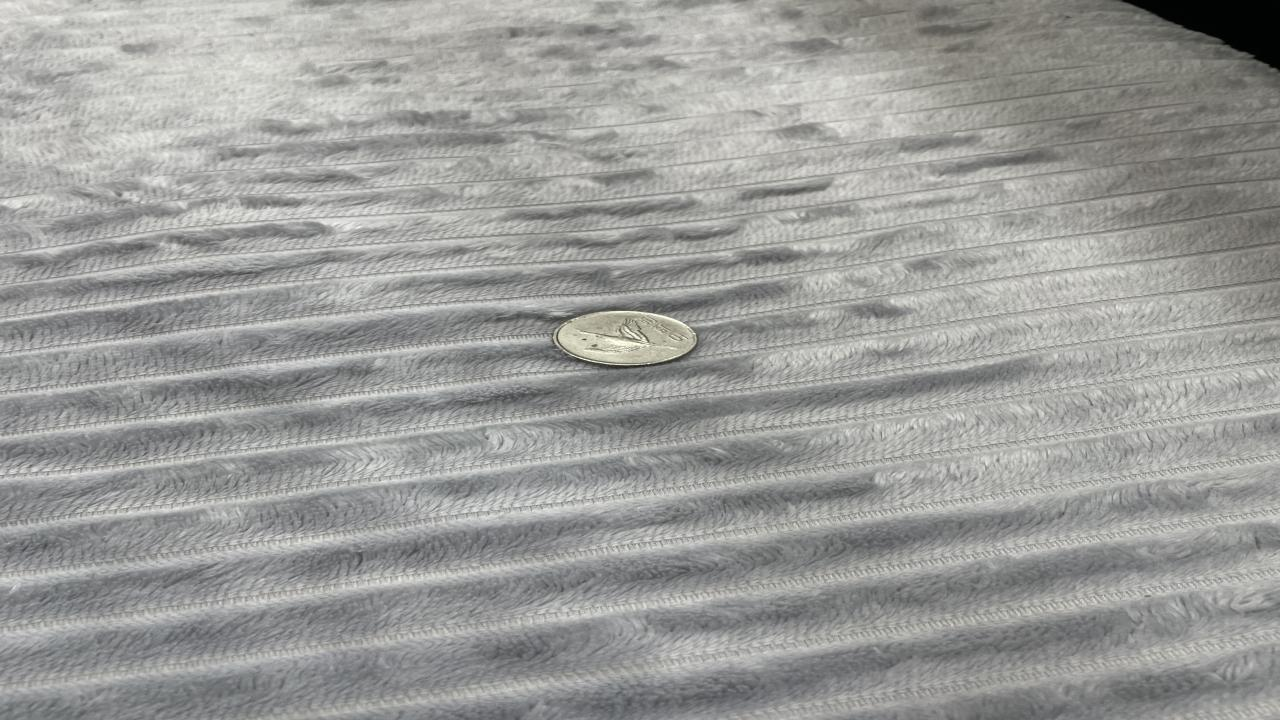coin: (547, 308, 706, 368)
